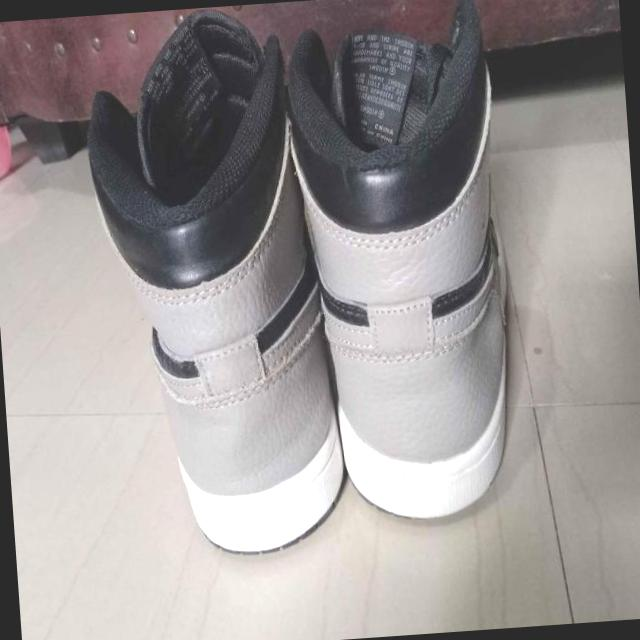nike_fake_jordan: (78, 0, 352, 563), (281, 0, 533, 530)
